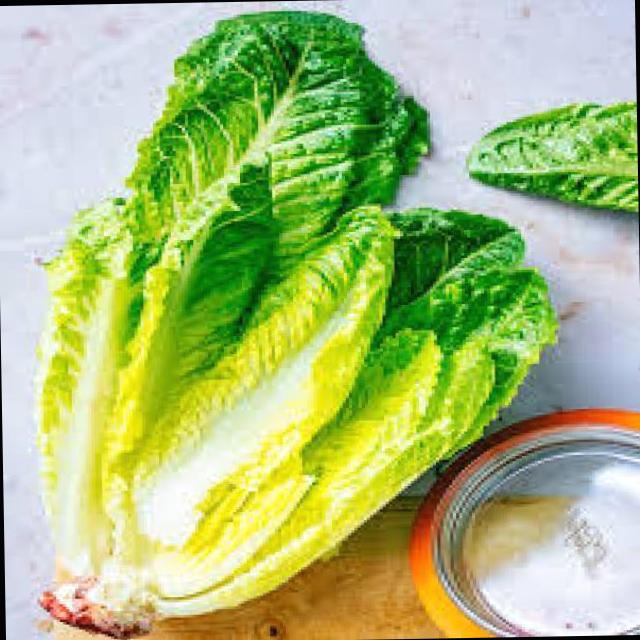Lettuce-Ready-to-Harvest: (32, 10, 561, 640), (466, 99, 638, 217)
